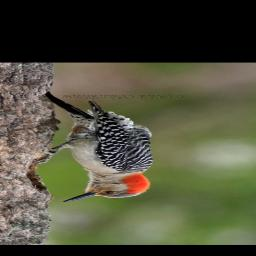Woodpecker: (37, 85, 165, 206)
